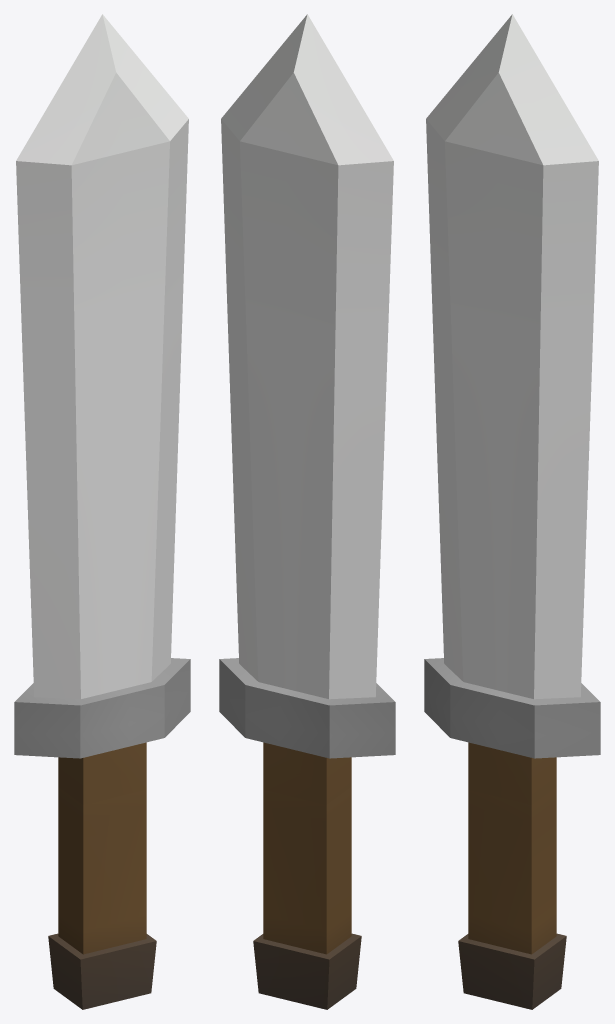
Rendered from Iron_Sword.fbx.
3 views of the same model, side by side, from view 1: azimuth 30°, elevation 25°; view 2: azimuth 150°, elevation 25°; view 3: azimuth 330°, elevation 25° (orthographic).
Parts seen in each view (by area): view 1: Iron_Sword; view 2: Iron_Sword; view 3: Iron_Sword.
Boxes of the visible parts, bbox=[...] form: Iron_Sword: bbox=[14, 14, 190, 1009]; Iron_Sword: bbox=[219, 14, 395, 1009]; Iron_Sword: bbox=[424, 14, 600, 1009].
Bounding box in the file's own units: 19.24 × 102 × 7.6.
1 material, 1 textured.
